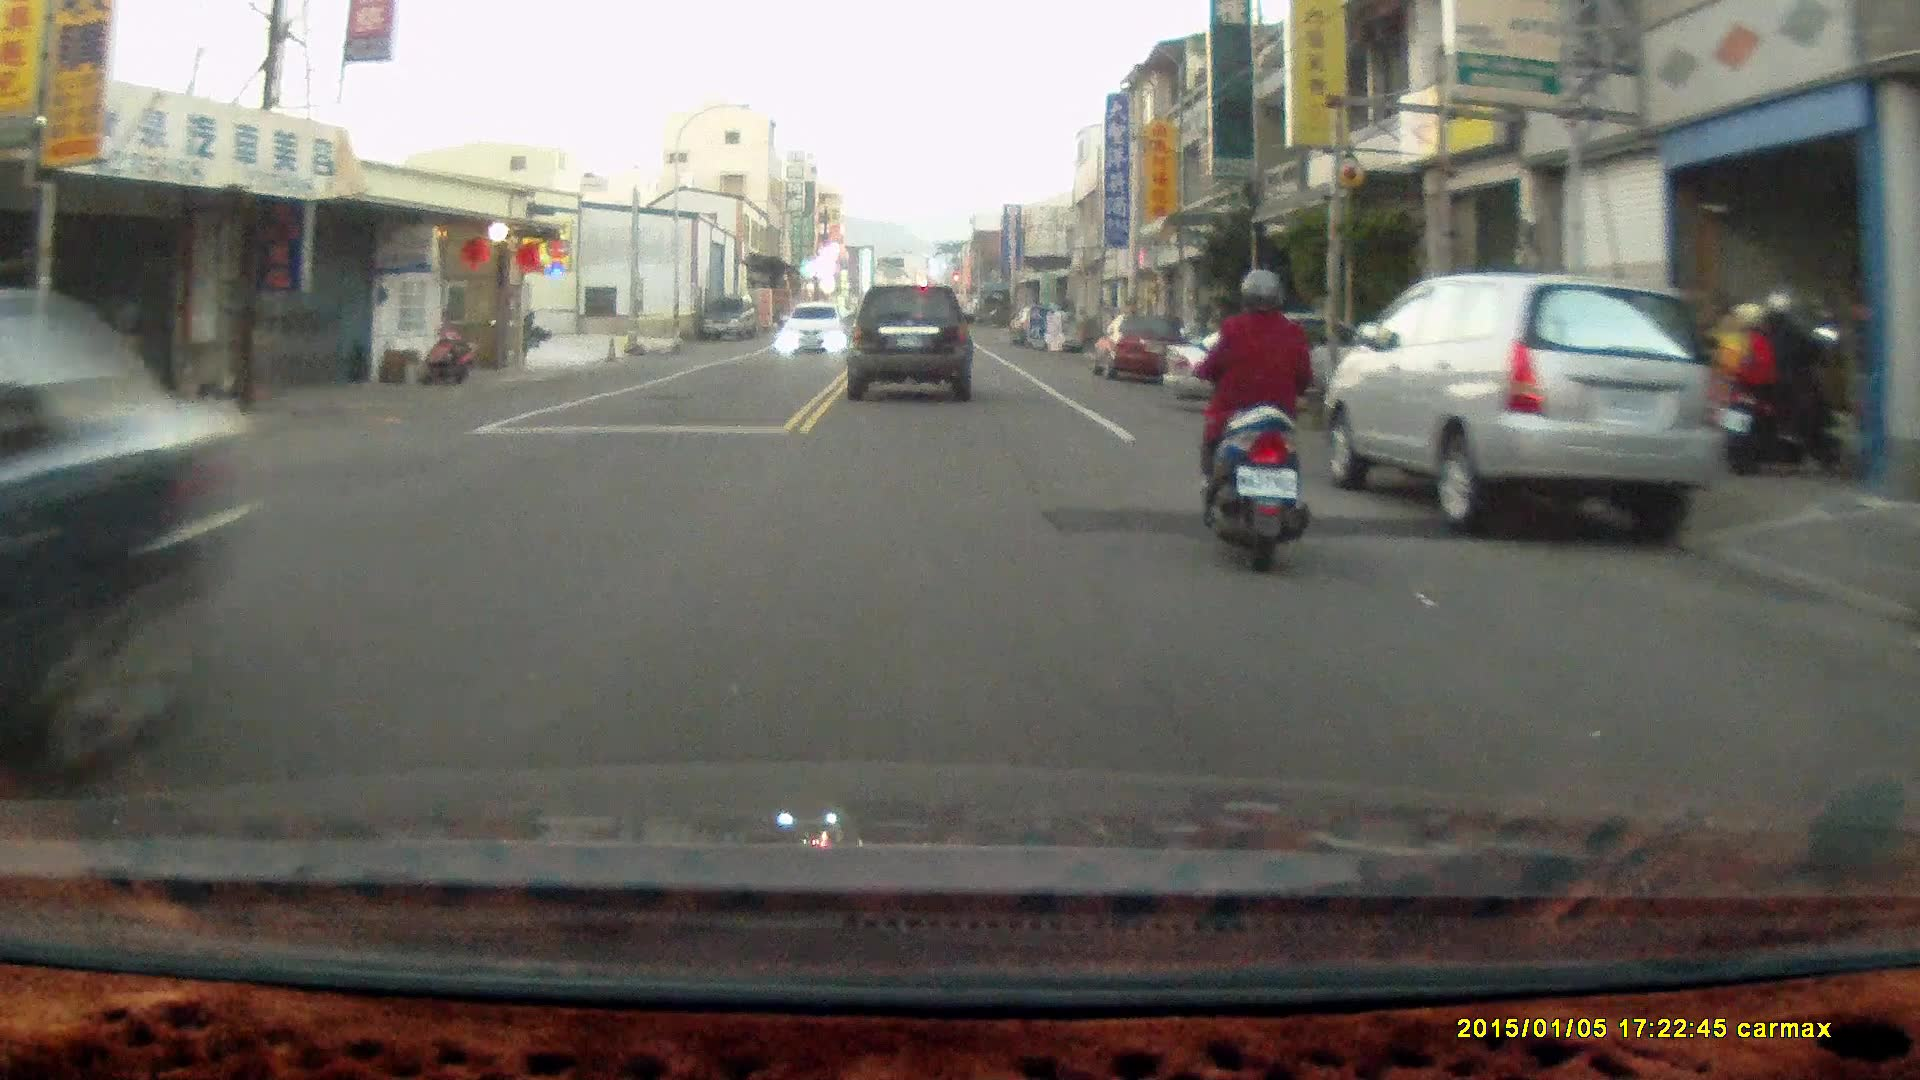rider: (1177, 263, 1312, 575), (1715, 293, 1846, 474)
vehicle: (1, 288, 253, 804), (1329, 271, 1729, 550), (1164, 311, 1378, 410), (848, 281, 978, 406), (1093, 312, 1186, 380), (779, 303, 846, 356), (700, 296, 759, 341)
